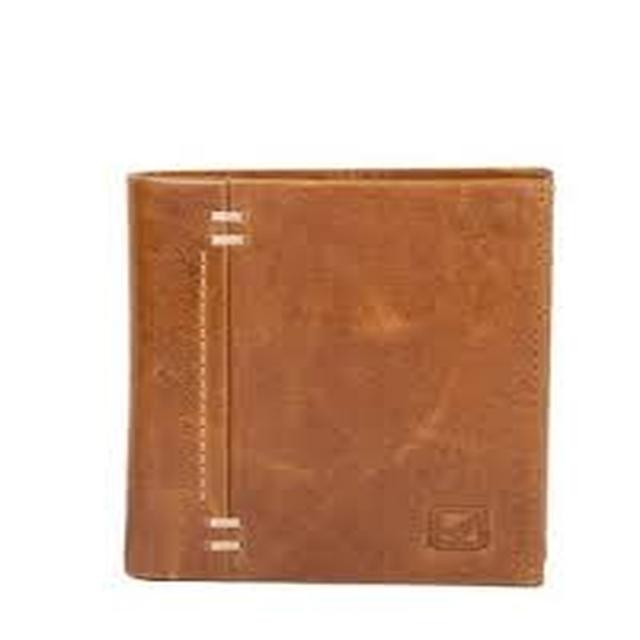wallet: (84, 137, 580, 603)
